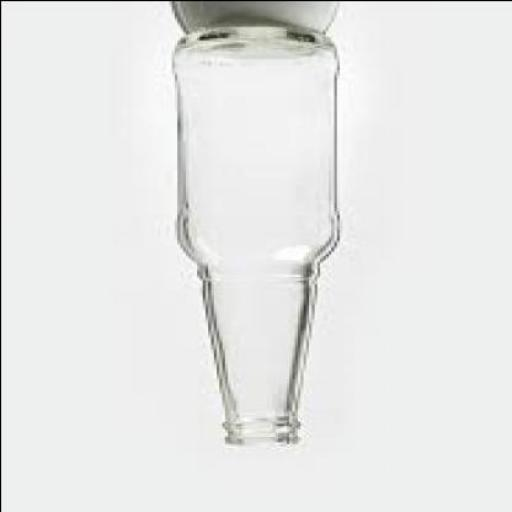glass: (174, 22, 344, 447)
